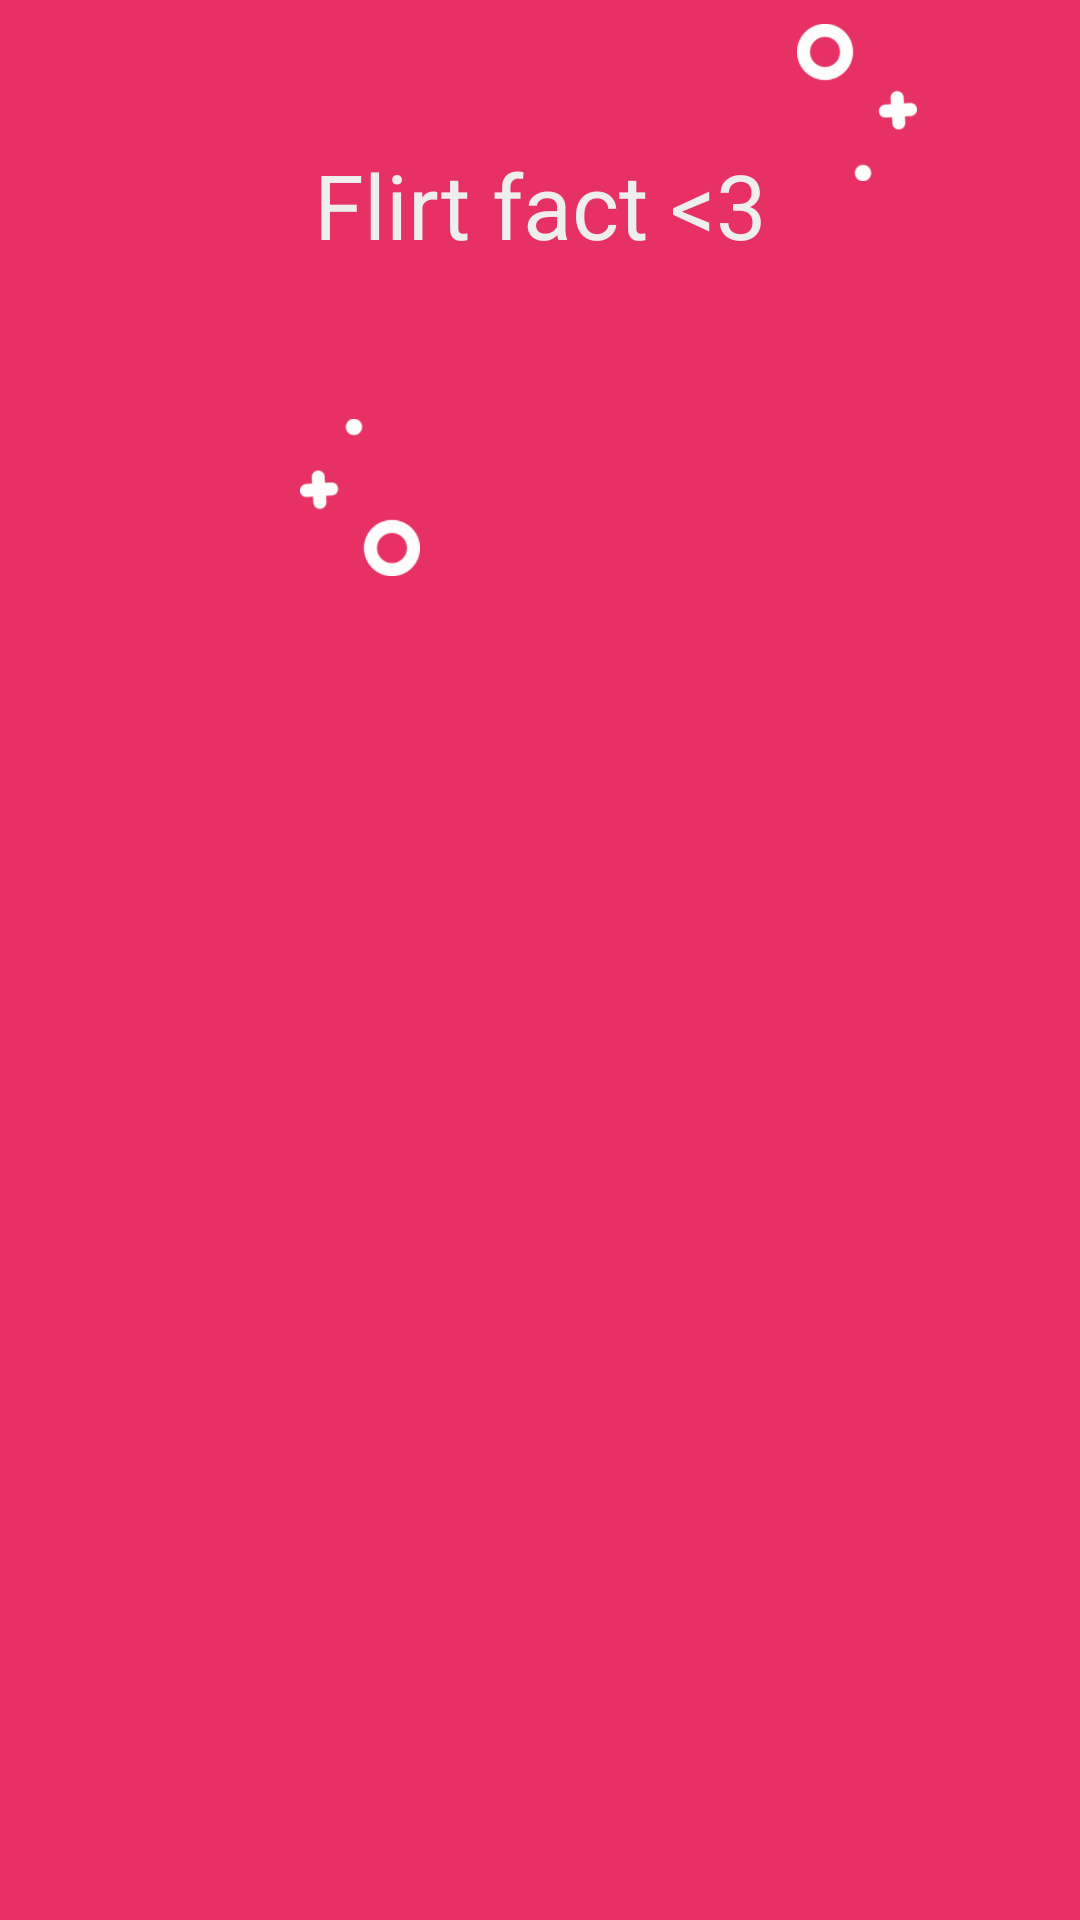

Icon bounding boxes for this 1080×1920 phone screenshot, format (x1, y1, x2, y2):
deco type: (797, 24, 917, 181), (300, 419, 420, 576)
